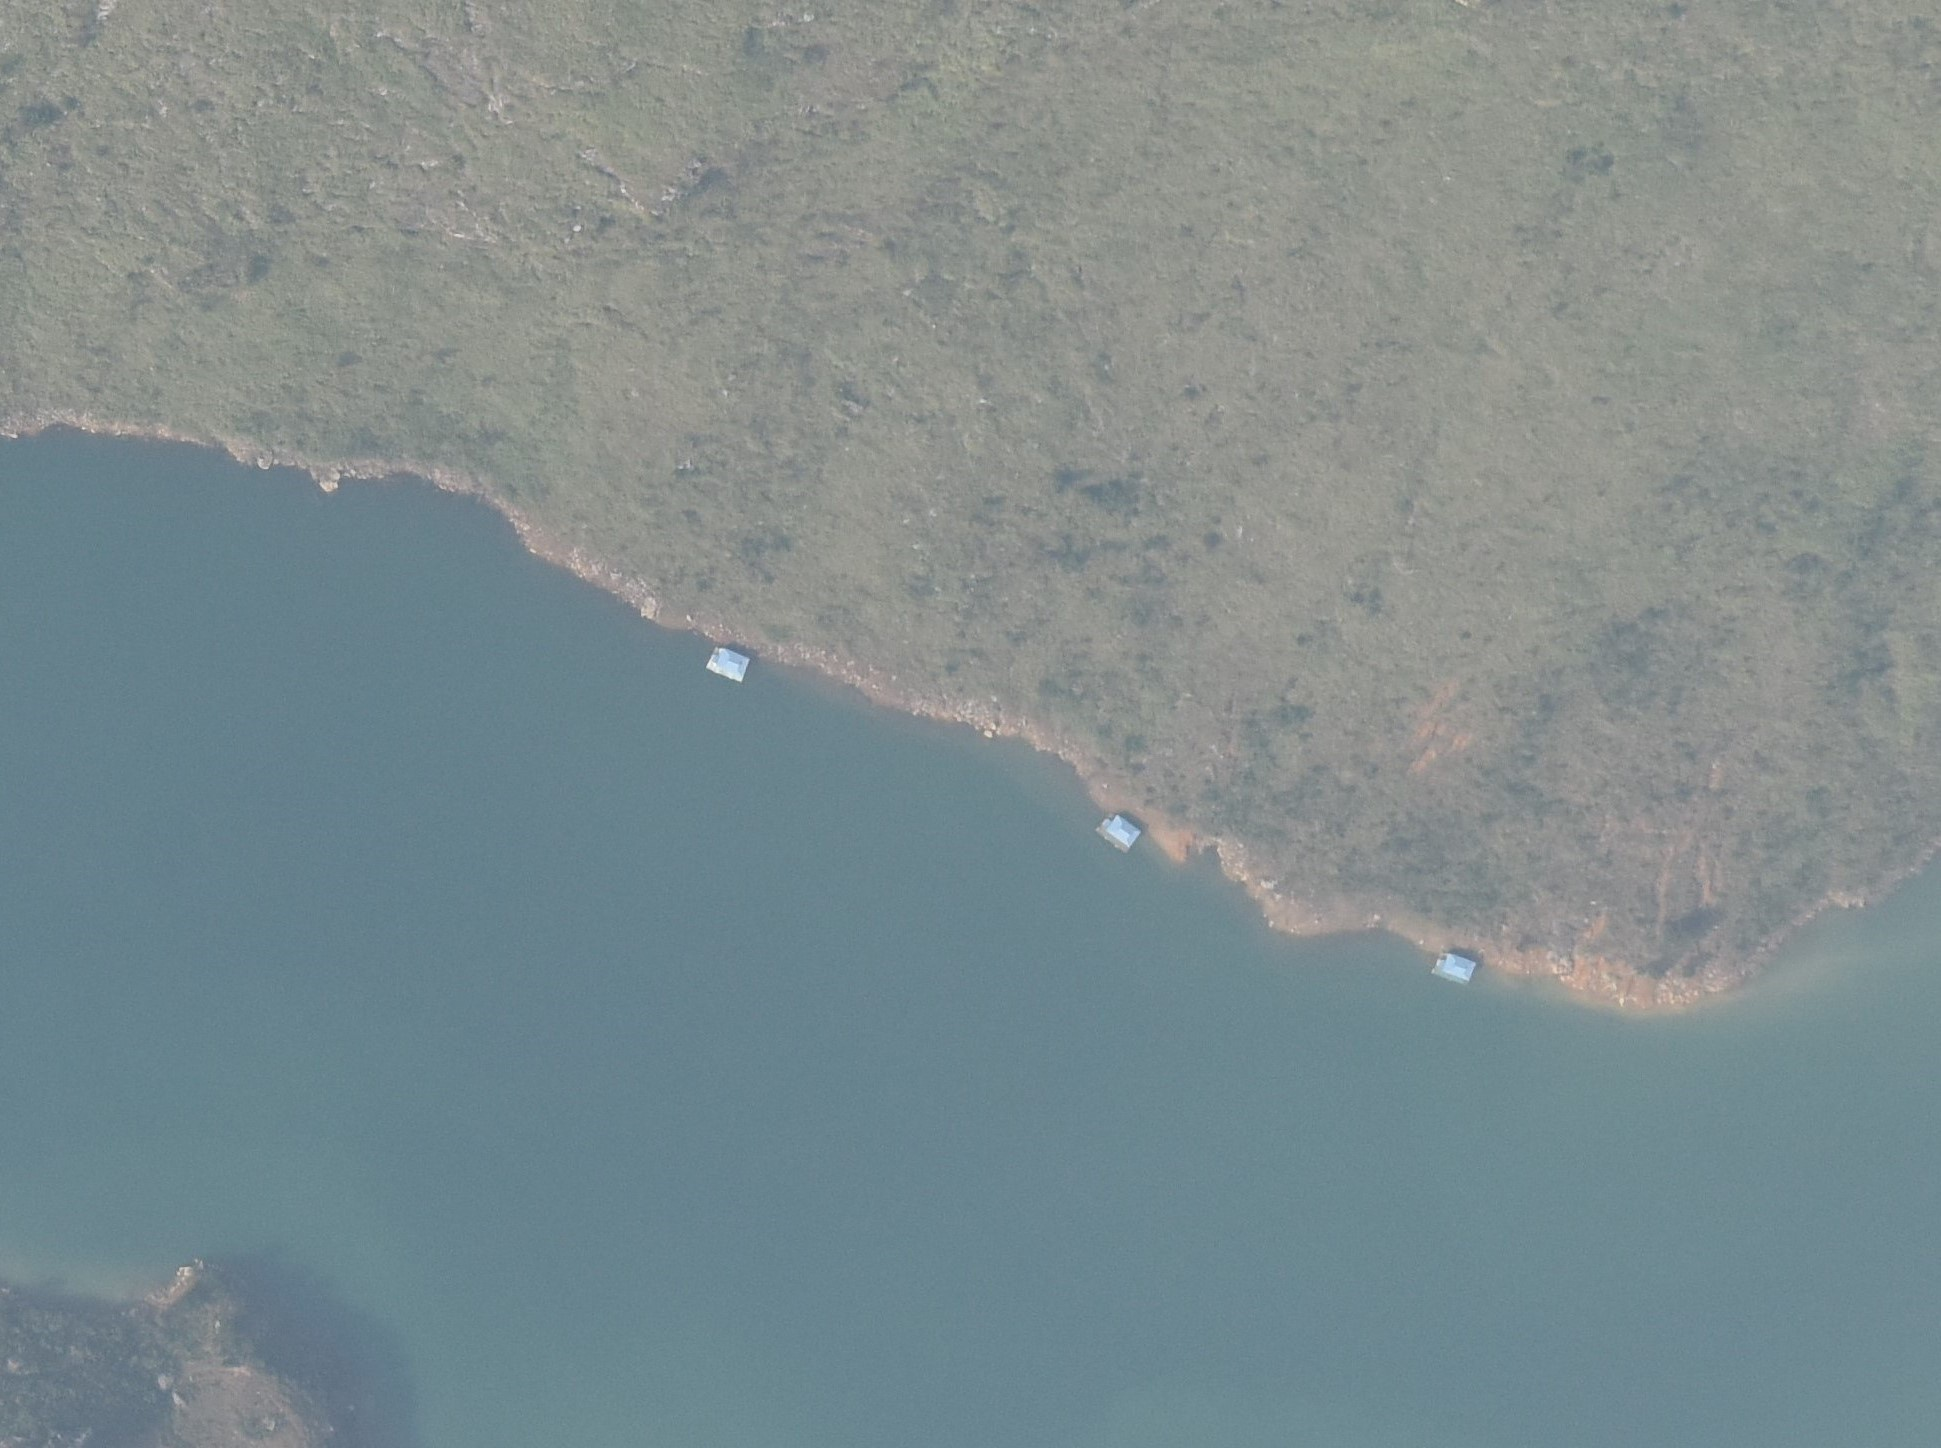prefabricated-house: (704, 642, 756, 686), (1425, 949, 1482, 986), (1097, 814, 1144, 853)
